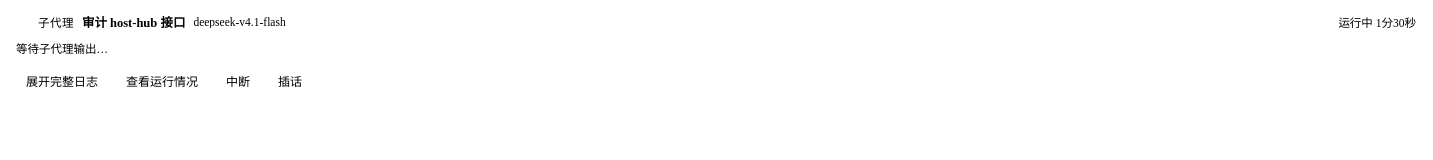
delegate 运行卡：插话 › queued：提交后清空并收起，提示下个批次会看到
Click the button "插话" at (290, 82), box x1=268 y1=68 x2=312 y2=94
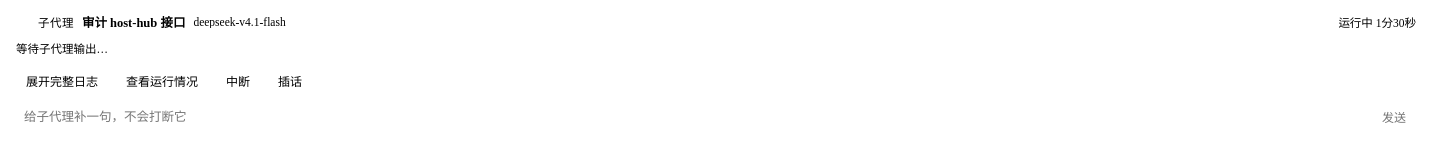
Type "先只跑 read 的工具" into the field with placeholder "给子代理补一句，不会打断它" at (690, 118), box x1=16 y1=104 x2=1364 y2=130
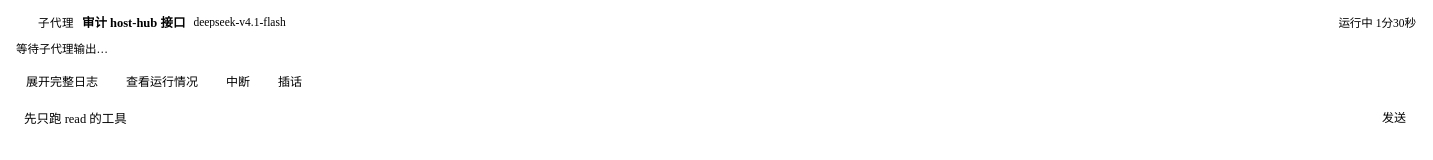
Click the button "发送" at (1394, 118), box x1=1372 y1=104 x2=1416 y2=130
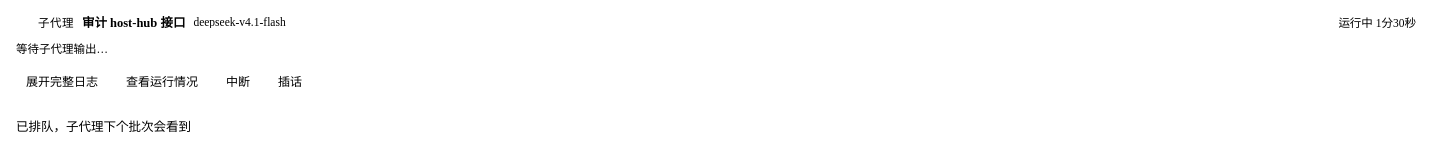
Result: the text "已排队，子代理下个批次会看到" is shown at x1=16 y1=120 x2=191 y2=134
Result: the field with placeholder "给子代理补一句，不会打断它" is gone
